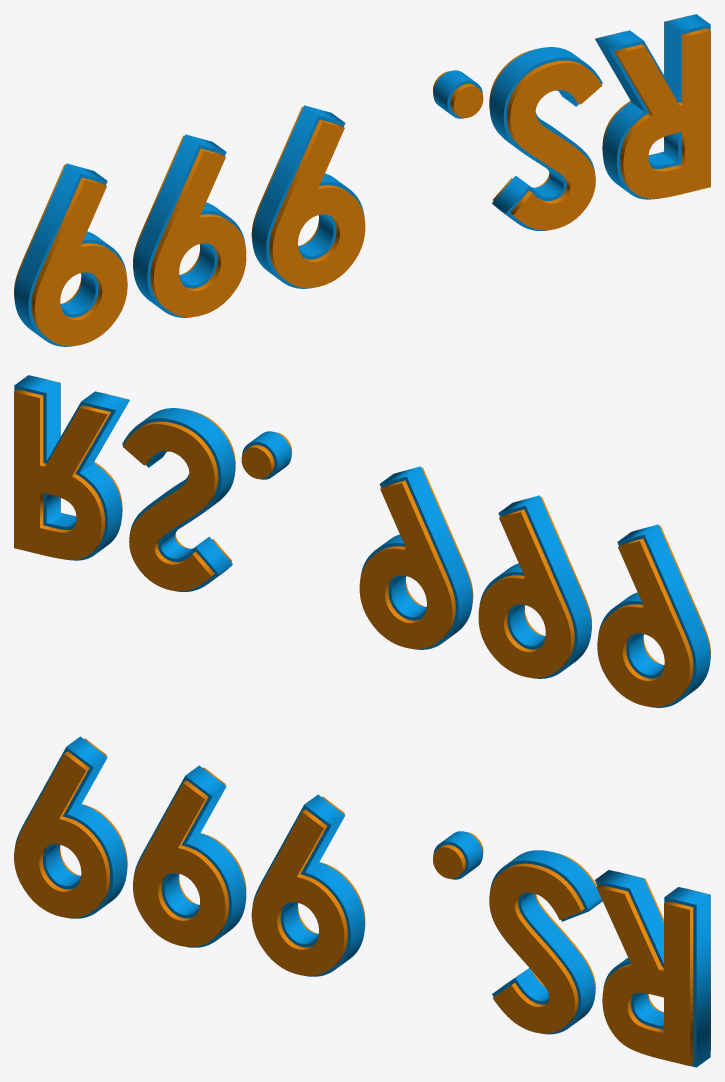
Rendered from asset.gltf.
The picture shows the model from 3 angles, top to bottom: view 1: azimuth 30°, elevation 25°; view 2: azimuth 150°, elevation 25°; view 3: azimuth 330°, elevation 25°; orthographic projection.
Parts seen in each view (by area): view 1: Text; view 2: Text; view 3: Text.
Part boxes in pixels (x1,y1,x2,y2): Text: (14,14,710,346); Text: (14,375,710,707); Text: (14,736,710,1067).
Bounding box in the file's own units: 0.0957 × 0.023 × 0.0051.
